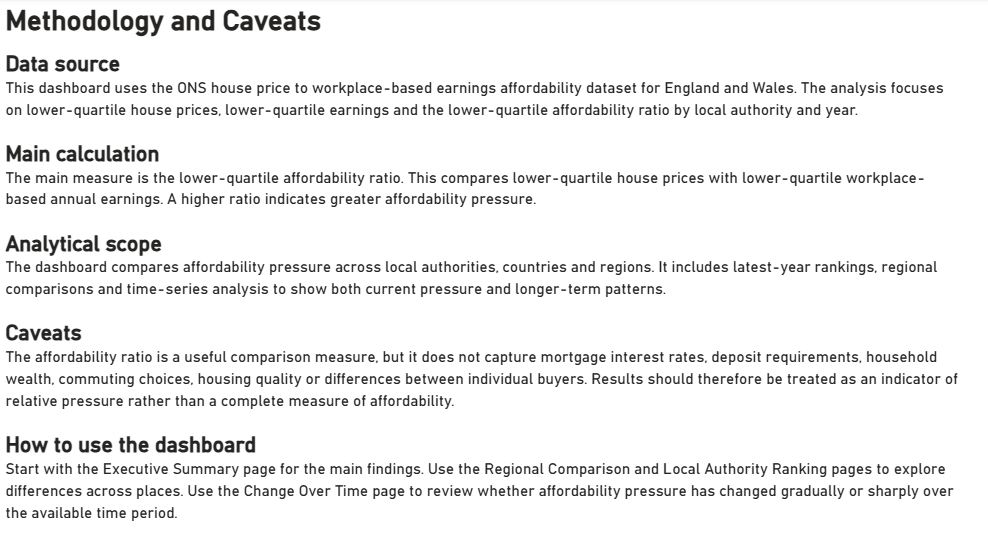

This screenshot's page, from the dashboard's own definition file:
{"tool":"powerbi","page":{"name":"Methodology and Caveats","canvas":[1280,720],"ordinal":4},"visuals":[{"type":"textbox","box":[0,0,259.7,36],"z":0},{"type":"textbox","box":[0,36,752.8,401.7],"z":1000}]}

Visuals, with their boxes in screenshot pixels (x1, y1, x2, y2), scaled from the page's 1280x720 canvas onto the 988x554 screenshot:
textbox: region(0, 0, 200, 28)
textbox: region(0, 28, 581, 337)
